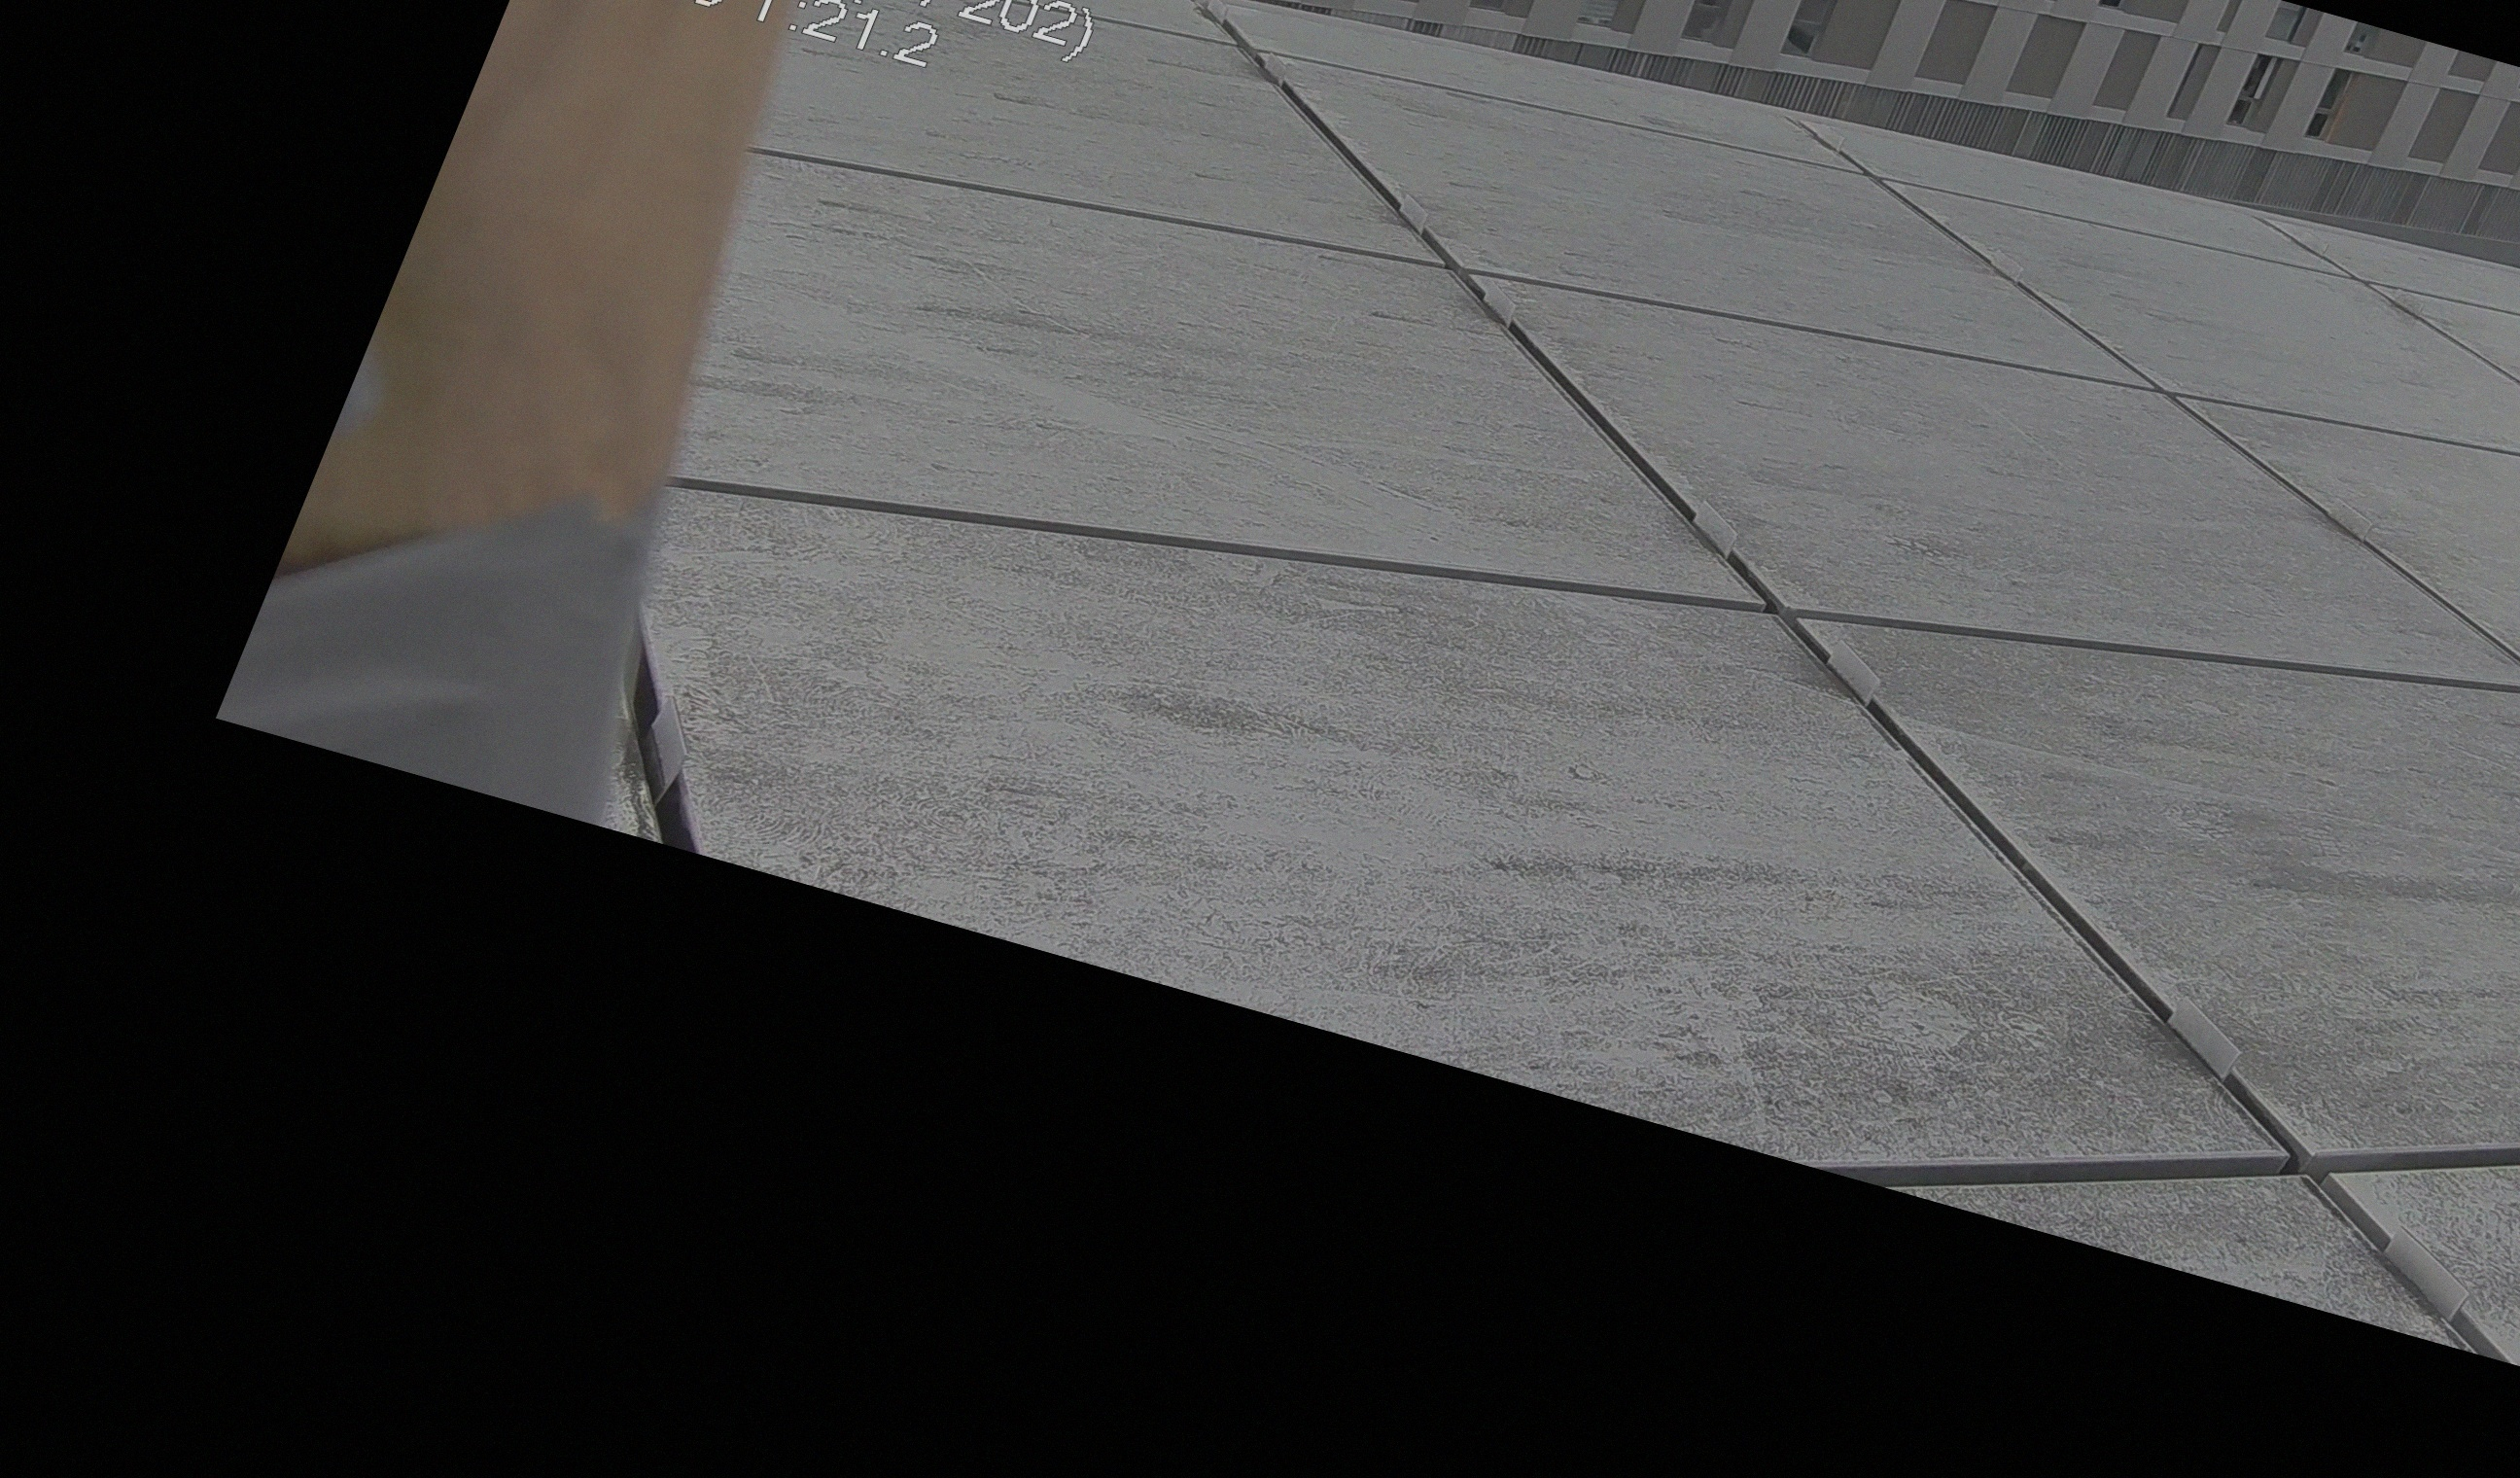Other: (114, 88, 503, 639)
